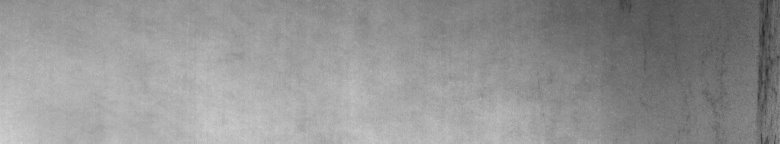ka: (620, 4, 776, 136)
